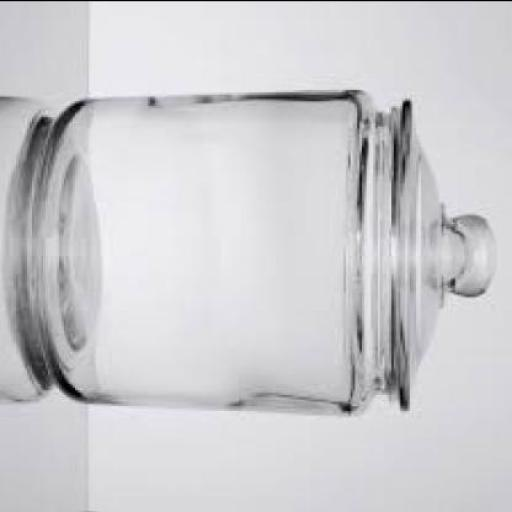glass: (34, 86, 498, 412)
